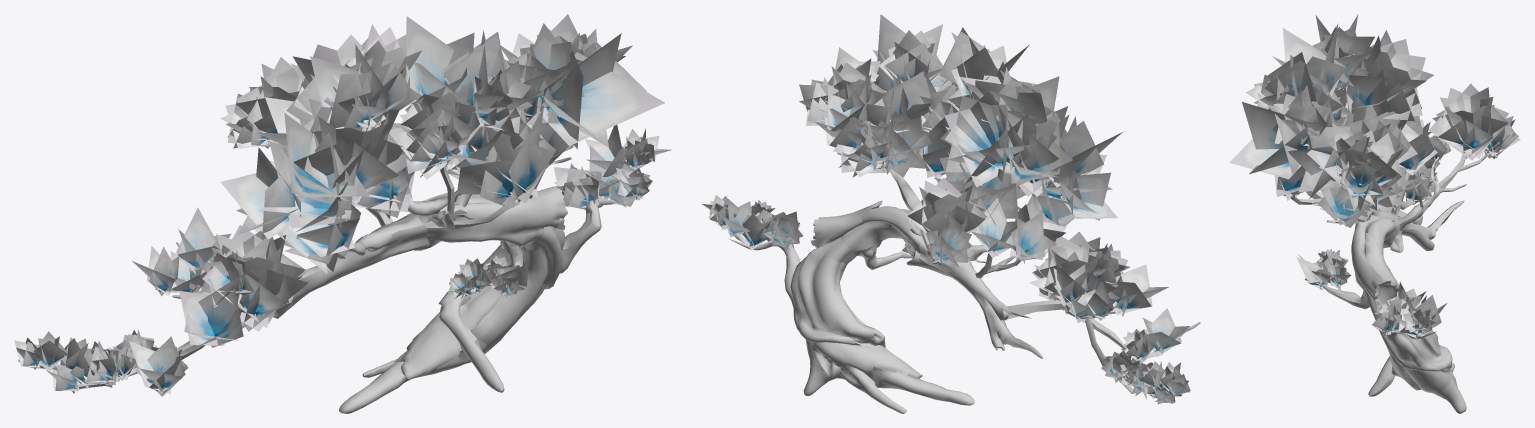
Rendered from shu_yunmeng_01.FBX.
3 views of the same model, side by side, from view 1: azimuth 30°, elevation 25°; view 2: azimuth 150°, elevation 25°; view 3: azimuth 270°, elevation 25° (orthographic). The views are drawn at different scales.
Parts seen in each view (by area): view 1: Mesh_0031, Mesh_121, Mesh_0100; view 2: Mesh_0031, Mesh_0100, Mesh_121; view 3: Mesh_0031, Mesh_0100, Mesh_121.
Boxes of the visible parts, x1,y1,x2,y2 form: Mesh_0031: (14, 14, 670, 396); Mesh_121: (15, 17, 668, 395); Mesh_0100: (18, 114, 650, 413); Mesh_0031: (701, 14, 1190, 404); Mesh_0100: (725, 166, 1200, 413); Mesh_121: (702, 15, 1189, 403); Mesh_0031: (1229, 14, 1520, 339); Mesh_0100: (1279, 134, 1509, 413); Mesh_121: (1230, 18, 1517, 339).
Bounding box in the file's own units: 2925 × 1870 × 1485.
